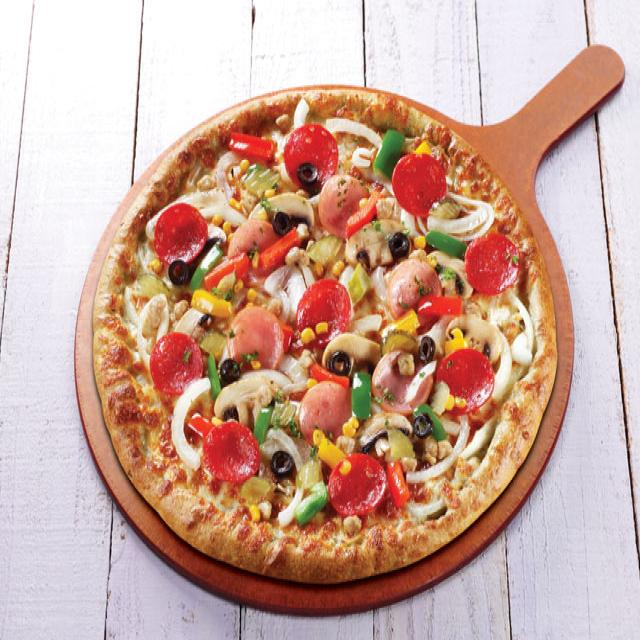Wet Waste: (87, 84, 561, 592)
